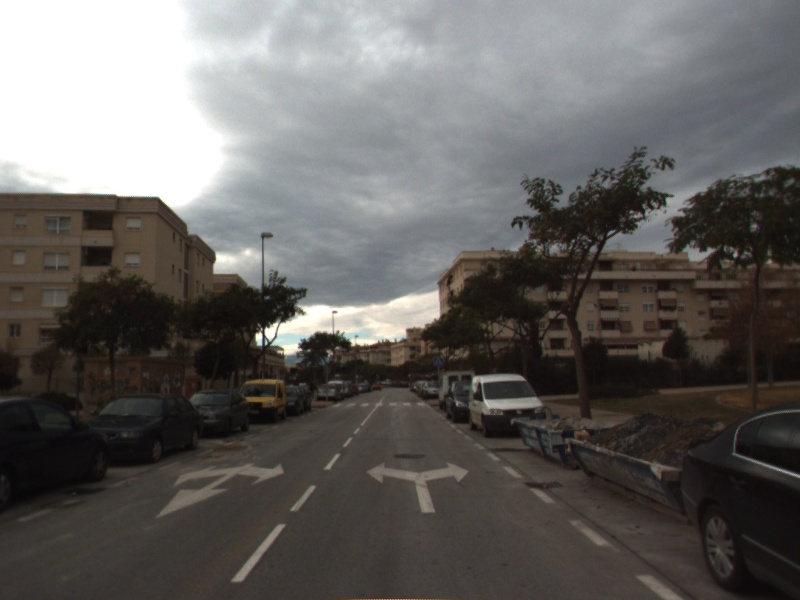LEFT_RIGHT: (364, 460, 472, 515)
